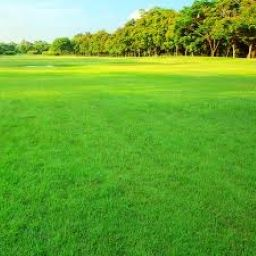grass: (2, 60, 252, 252)
